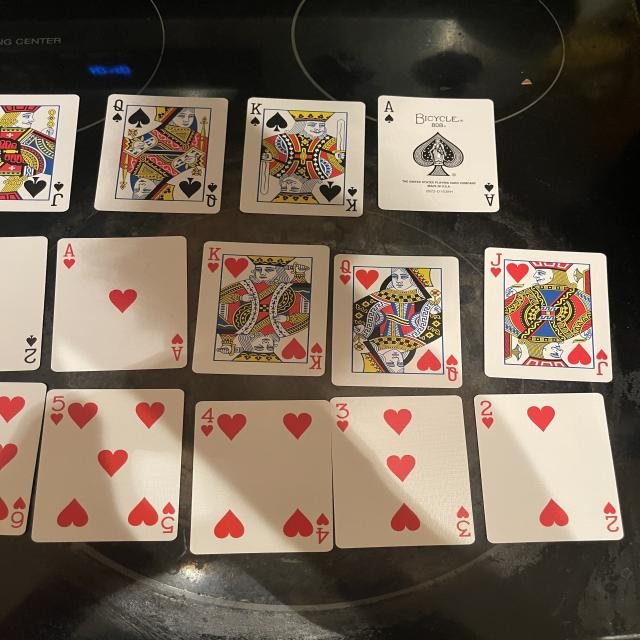2 of hearts: (473, 392, 623, 542)
2 of spades: (0, 236, 48, 371)
3 of hearts: (332, 395, 475, 549)
4 of hearts: (190, 400, 333, 554)
5 of hearts: (32, 389, 183, 542)
6 of hearts: (0, 382, 47, 535)
Ace of hearts: (52, 236, 188, 371)
Ace of spades: (378, 96, 500, 212)
Jack of hearts: (483, 248, 612, 382)
Jack of spades: (0, 95, 78, 211)
King of hearts: (192, 241, 330, 376)
King of spades: (240, 98, 365, 216)
Queen of hearts: (332, 254, 462, 388)
Queen of spades: (95, 95, 228, 214)
